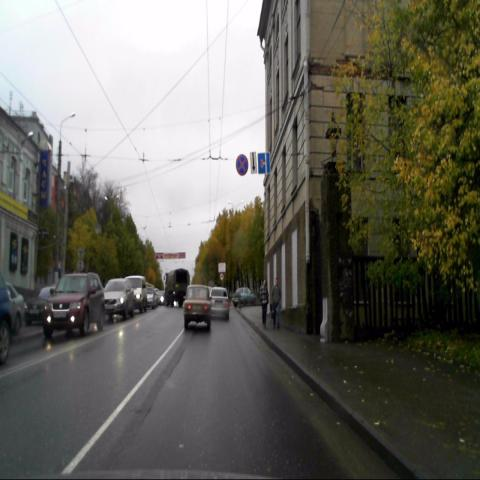6_8_3: (258, 152, 270, 174)
